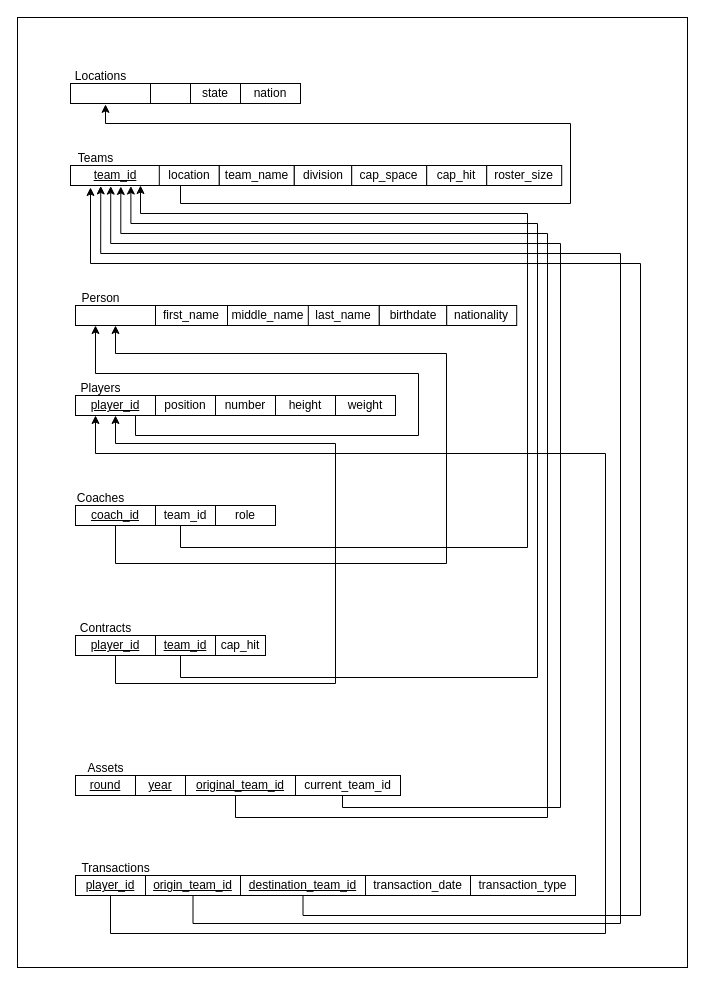
Image size: 705x985. Some labels were removed from this diagram. The box of each missing label's shape, as (x1, y1, x2, y2) in pixels:
city: (150, 82, 190, 104)
location_id: (70, 82, 150, 104)
person_id: (74, 304, 156, 326)
